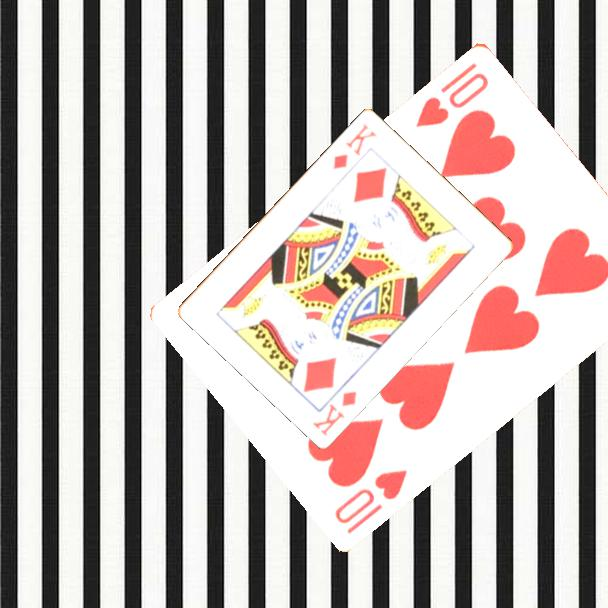d13: (329, 119, 380, 172), (309, 387, 360, 439)
h10: (412, 58, 492, 130), (331, 465, 411, 536)
